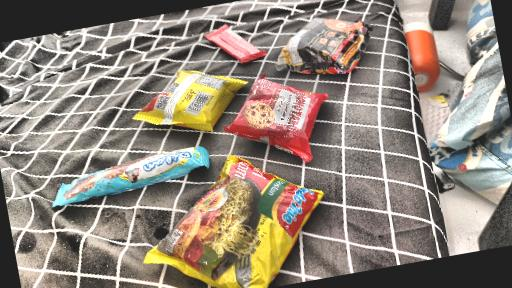chocho: (206, 19, 267, 72)
dilan: (50, 146, 218, 206)
indomie: (120, 140, 340, 288)
mie sedap: (266, 6, 382, 88)
momotaro: (214, 61, 333, 174), (123, 53, 249, 148)
